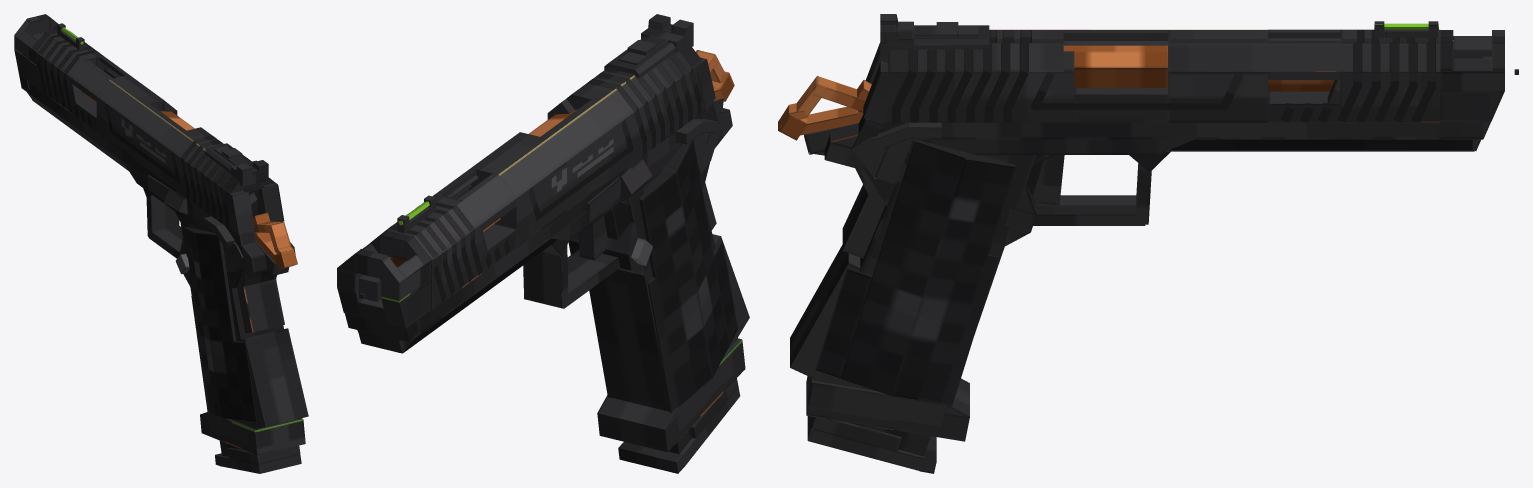
The model's file is tti_viper.fbx.
The picture shows the model from 3 angles, left to right: view 1: azimuth 30°, elevation 25°; view 2: azimuth 150°, elevation 25°; view 3: azimuth 270°, elevation 25°; orthographic projection. The views are drawn at different scales.
Parts seen in each view (by area): view 1: gun, slide, magazine, hammer; view 2: gun, slide, magazine, hammer, _cb_suppressor; view 3: gun, slide, magazine, hammer.
Boxes of the visible parts, x1,y1,x2,y2 form: gun: (14,14,308,455); slide: (36,23,284,232); magazine: (215,441,301,473); hammer: (253,212,297,269); gun: (337,98,749,452); slide: (370,14,715,309); magazine: (618,378,740,473); hammer: (696,50,734,101); _cb_suppressor: (359,275,381,301); gun: (790,30,1504,441); slide: (863,14,1440,124); magazine: (807,416,936,473); hammer: (778,76,871,140).
Bounding box in the file's own units: 29.39 × 140 × 215.
